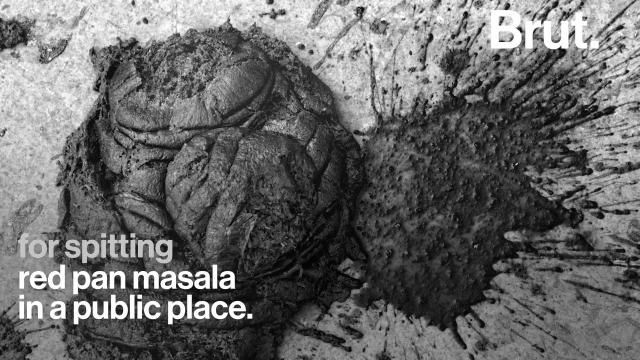spit: (364, 80, 578, 316)
